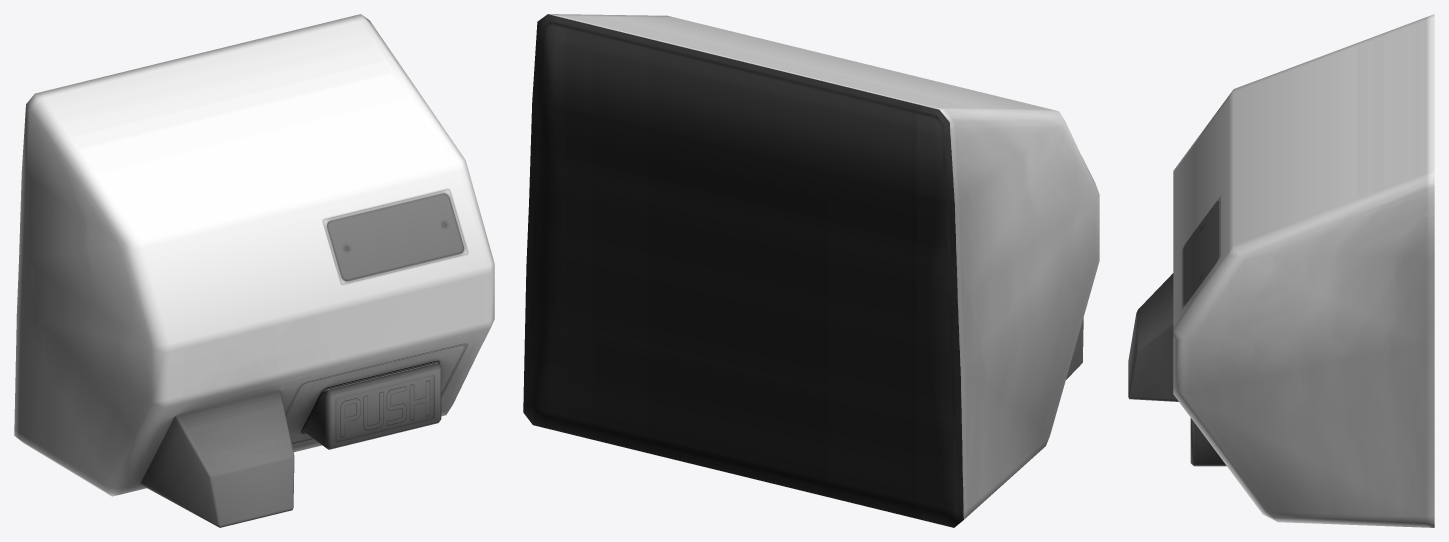
The model's file is HandDryer.fbx.
3 renders of one model, left to right at view 1: azimuth 30°, elevation 25°; view 2: azimuth 150°, elevation 25°; view 3: azimuth 270°, elevation 25°, orthographic. The views are drawn at different scales.
Visible parts, largest first — view 1: Hand Dryer; view 2: Hand Dryer; view 3: Hand Dryer.
Part boxes in pixels (left/top/right/bottom): Hand Dryer: left=14, top=14, right=494, bottom=527; Hand Dryer: left=523, top=14, right=1099, bottom=527; Hand Dryer: left=1128, top=14, right=1434, bottom=527.
Bounding box in the file's own units: 104 × 93.6 × 74.77.
Materials: 1 (1 with a texture image).
